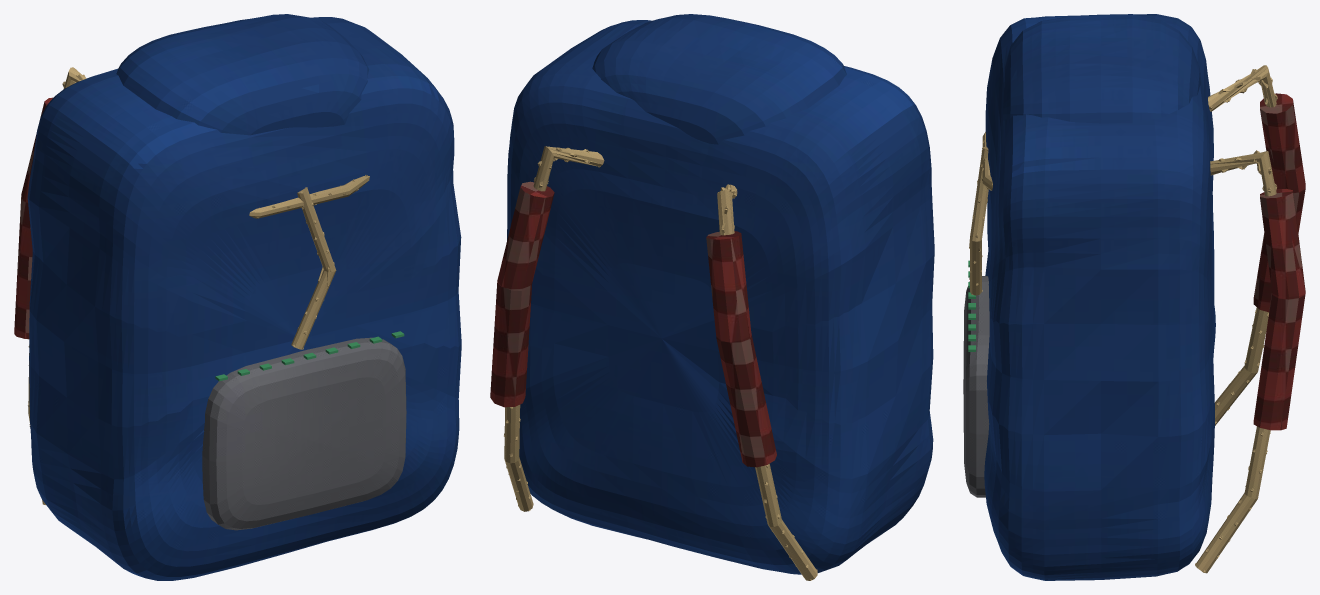
File: mochila_lona.glb
3 renders of one model, left to right at view 1: azimuth 30°, elevation 25°; view 2: azimuth 150°, elevation 25°; view 3: azimuth 270°, elevation 25°, orthographic.
Visible parts, largest first — view 1: mochila_lona_lona_azul, mochila_lona_trapo_cinza, mochila_lona_corda, mochila_lona_trapo_xadrez, mochila_lona_linha_verde; view 2: mochila_lona_lona_azul, mochila_lona_trapo_xadrez, mochila_lona_corda; view 3: mochila_lona_lona_azul, mochila_lona_trapo_xadrez, mochila_lona_corda, mochila_lona_trapo_cinza.
Part boxes in pixels (x1,y1,x2,y2): mochila_lona_lona_azul: (27, 14, 461, 580); mochila_lona_trapo_cinza: (202, 337, 406, 530); mochila_lona_corda: (28, 67, 369, 504); mochila_lona_trapo_xadrez: (14, 97, 52, 339); mochila_lona_linha_verde: (215, 331, 404, 381); mochila_lona_lona_azul: (507, 14, 934, 574); mochila_lona_trapo_xadrez: (490, 181, 776, 467); mochila_lona_corda: (504, 146, 817, 580); mochila_lona_lona_azul: (984, 14, 1215, 580); mochila_lona_trapo_xadrez: (1253, 93, 1305, 430); mochila_lona_corda: (969, 65, 1277, 573); mochila_lona_trapo_cinza: (963, 276, 989, 497).
Size of the model in its own units: 0.3254 by 0.4257 by 0.2733.
Materials: 5 (4 with a texture image).
